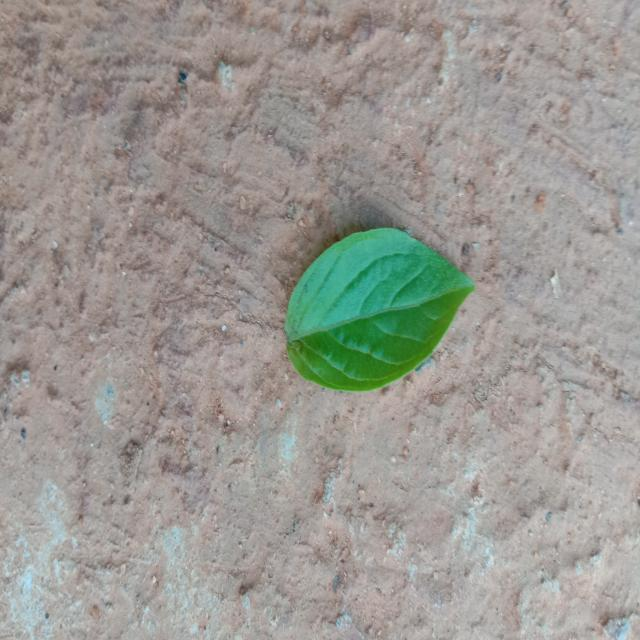kamakasturi: (285, 228, 474, 391)
